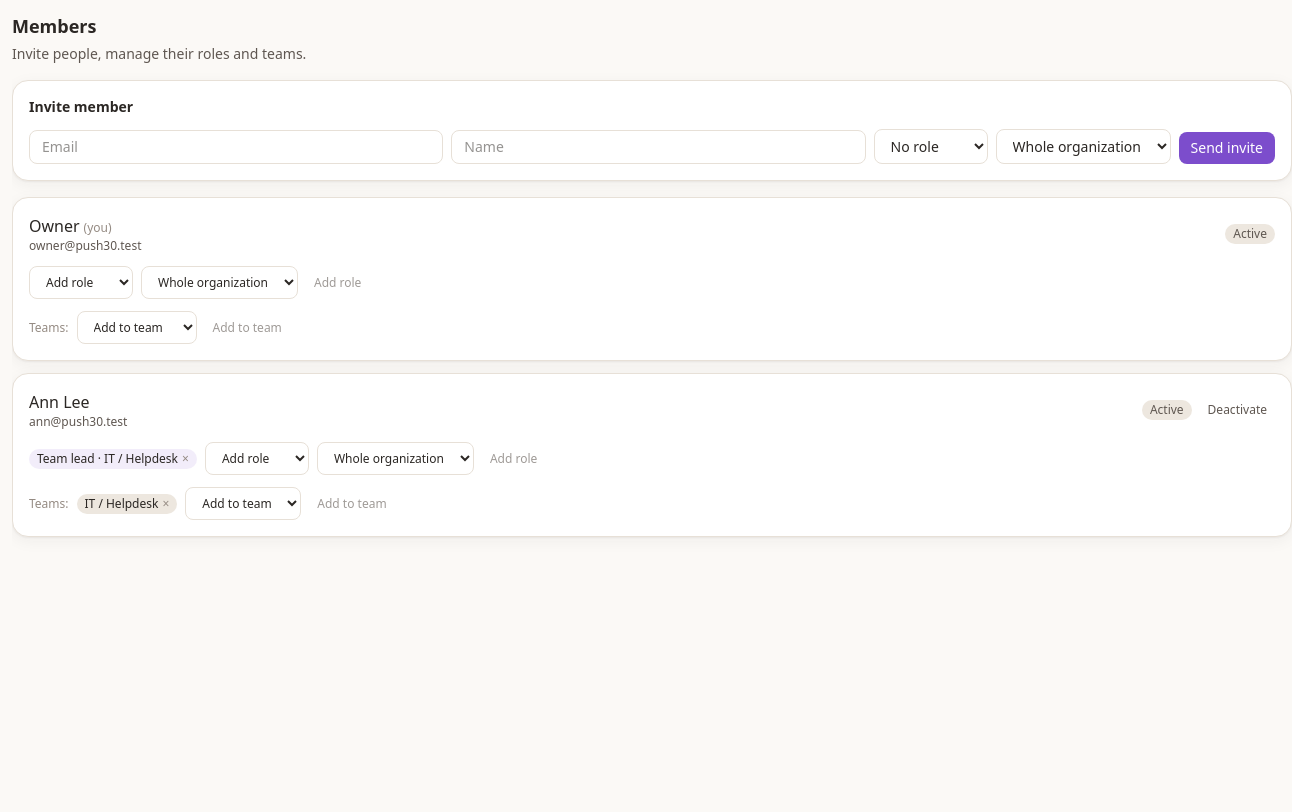
Test: MembersSection › invites without team membership when the role is not team-scoped
Step 1. Type "x@push30.test" into the field labelled "Email" → [236, 147], box [29,130,443,164]
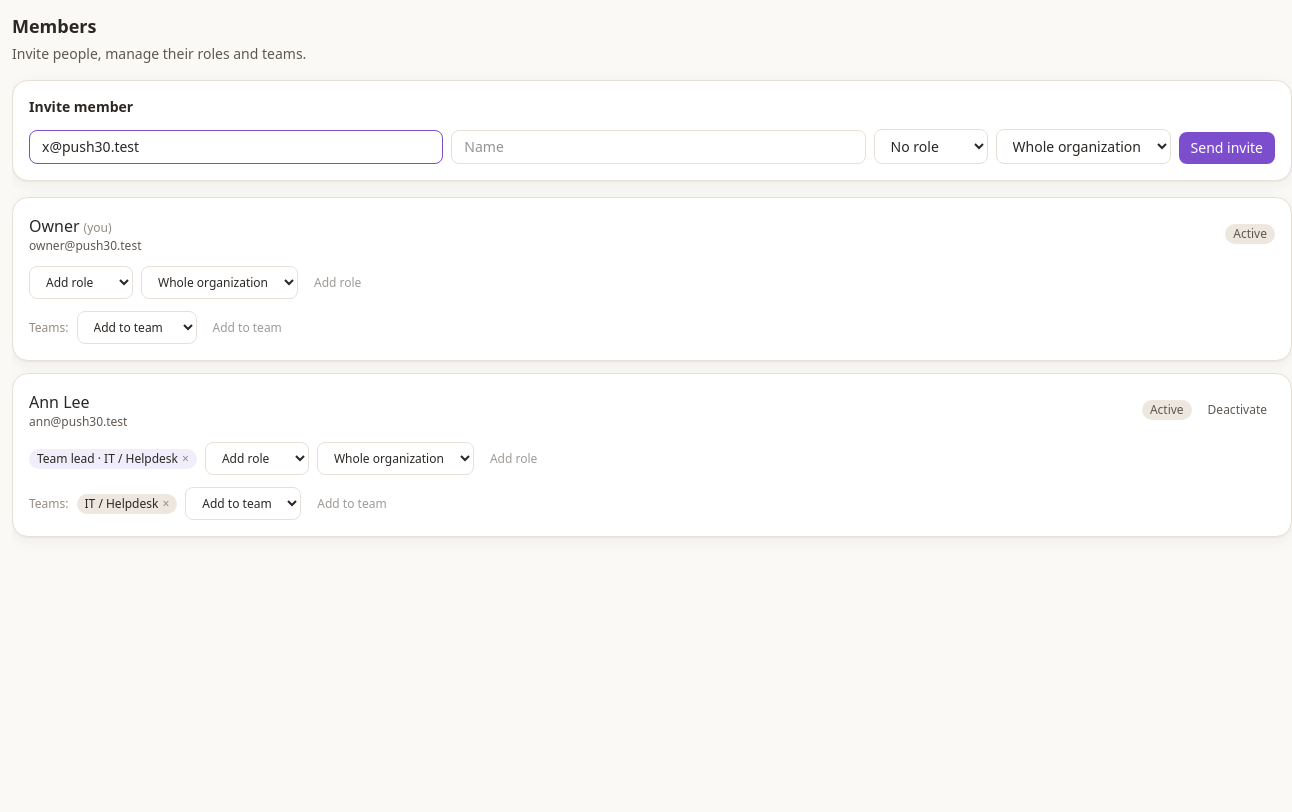
Step 2. Type "X" into the field labelled "Name" → [658, 147], box [451,130,866,164]
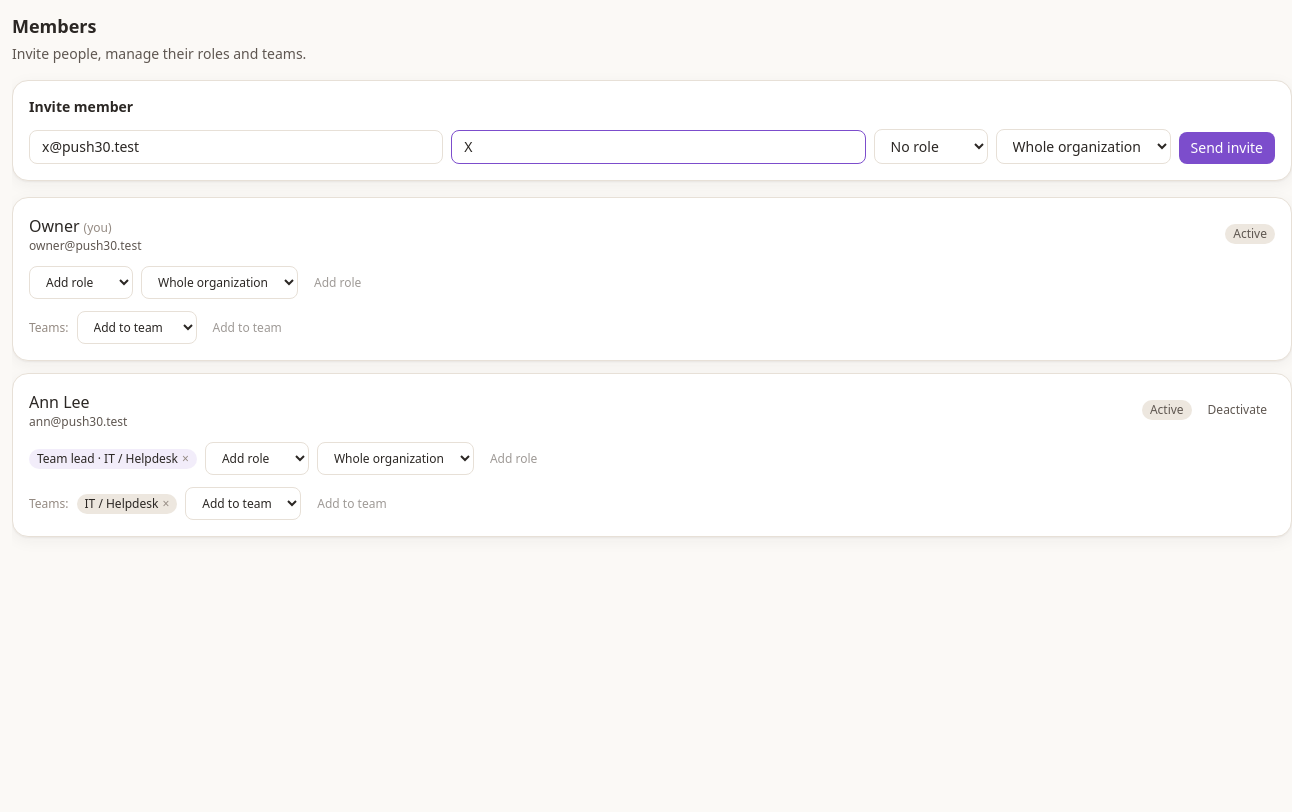
Step 3. Select "Member" in the dropdown named "Role" → [931, 146], box [874,129,988,164]
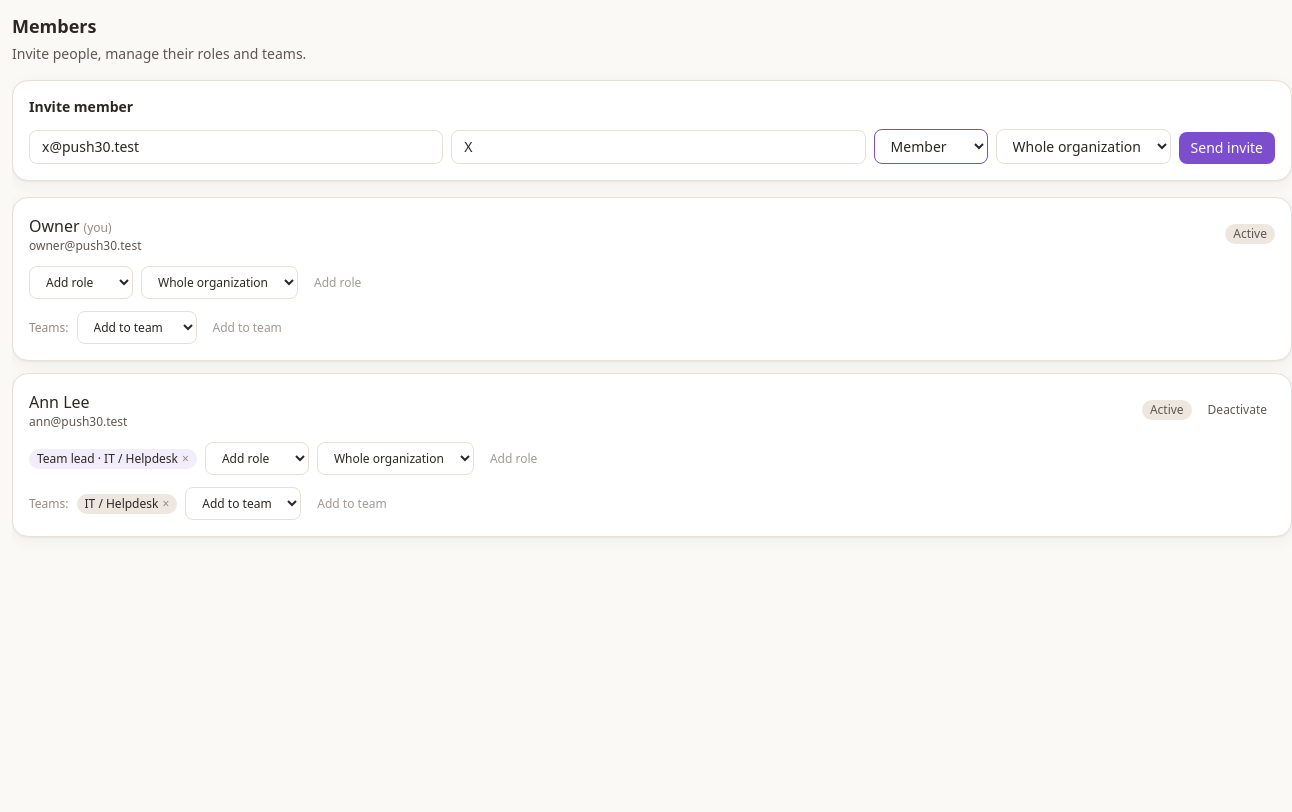
Step 4. Click the button "Send invite" → [1227, 148], box [1179,132,1275,164]
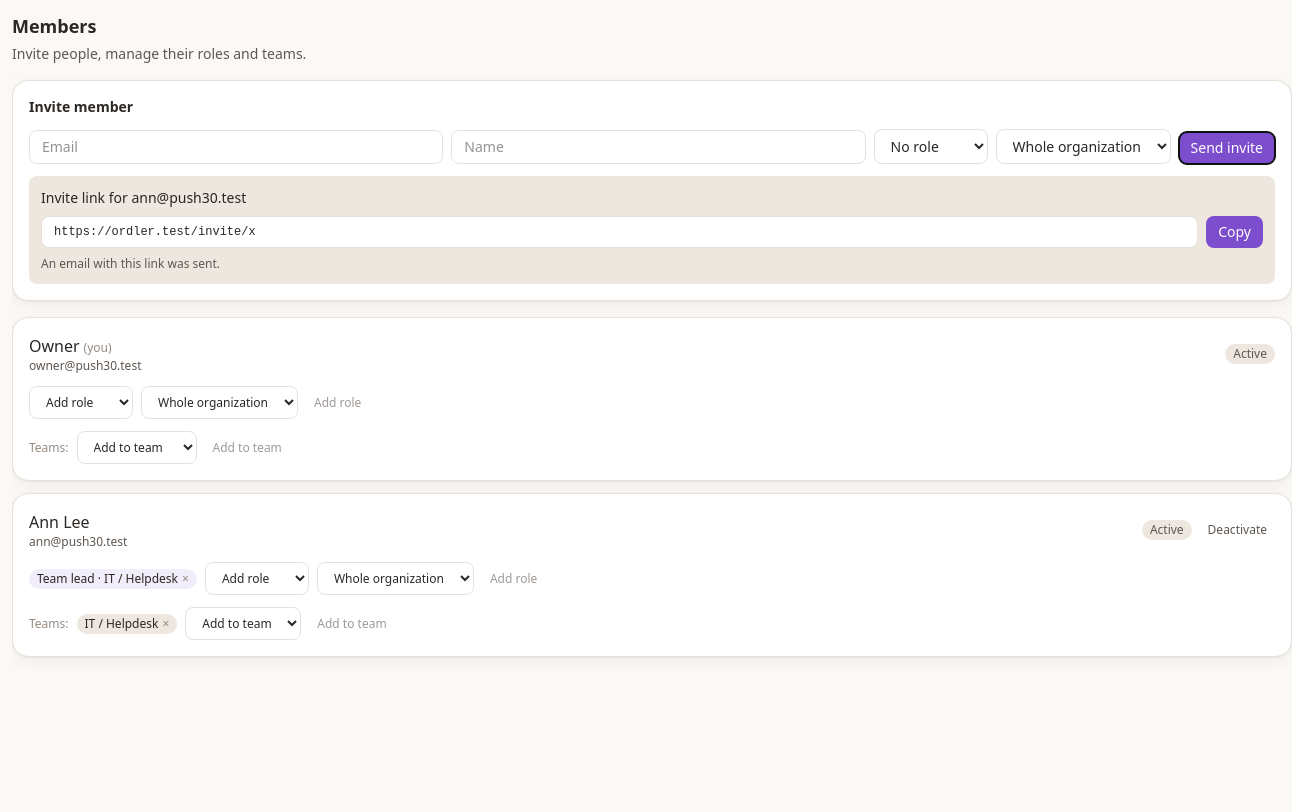
Expected: the text "An email with this link was sent." is shown, [41,255,220,272]
